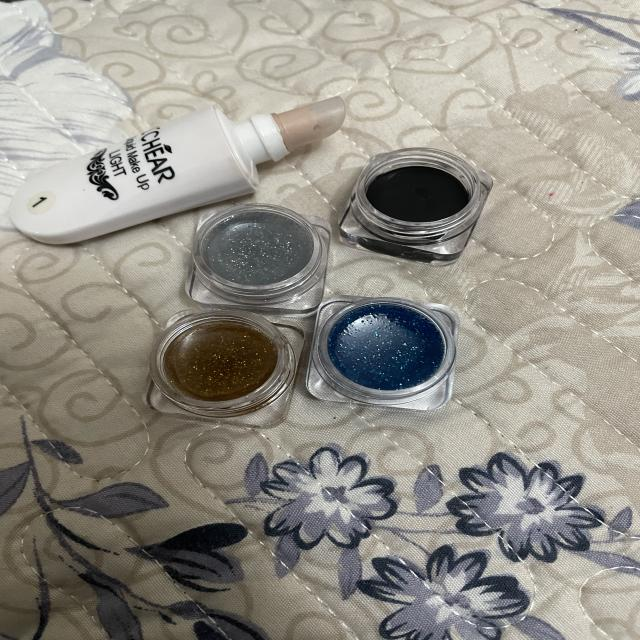concealer: (0, 76, 358, 207)
eye shade: (348, 137, 500, 271), (299, 294, 463, 417), (144, 308, 305, 429), (187, 198, 333, 312)
